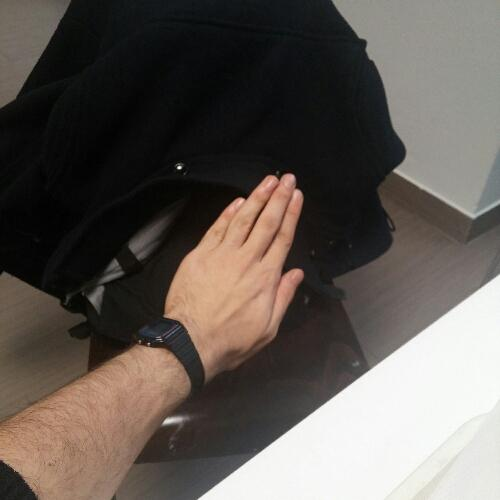paper: (163, 167, 310, 385)
